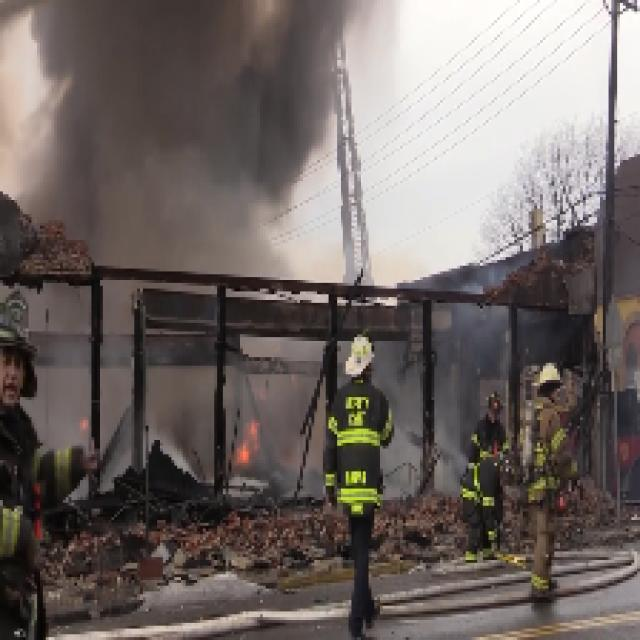Smoke: (27, 0, 326, 278)
